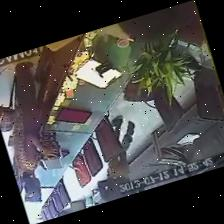person: (13, 61, 56, 196), (119, 0, 194, 40), (98, 121, 135, 201), (119, 6, 176, 40)
